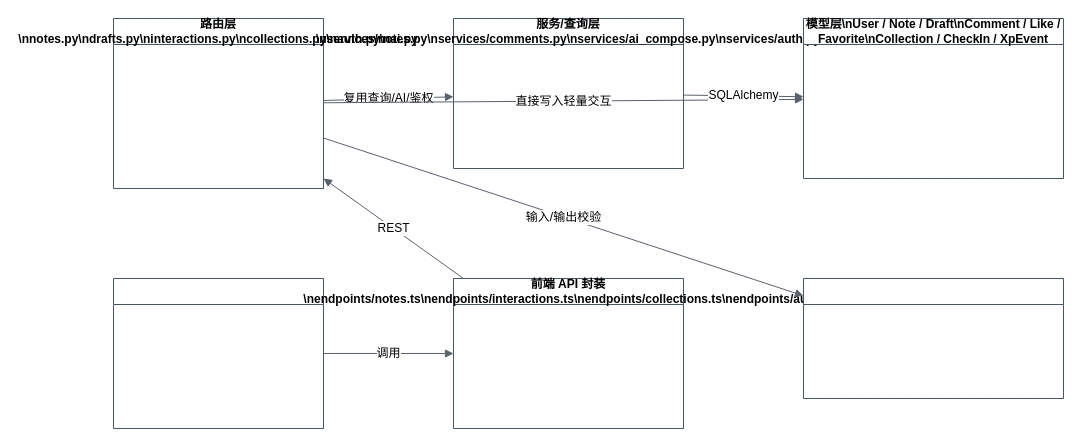
Some shapes in this 1081 by 446 pixel diagram are drawn without their labels. The shapes that lost their labels are listed below. From the top down, each one's centre as x and y in pixels, then its label:
(218,353): 前端页面\nWritePage\nBrowsePage\nNoteDetailPage\nProfilePage\nAdminPage
(933,338): Pydantic/Zod Schema\nNoteOut / CommentOut\nCollectionOut / UserOut
